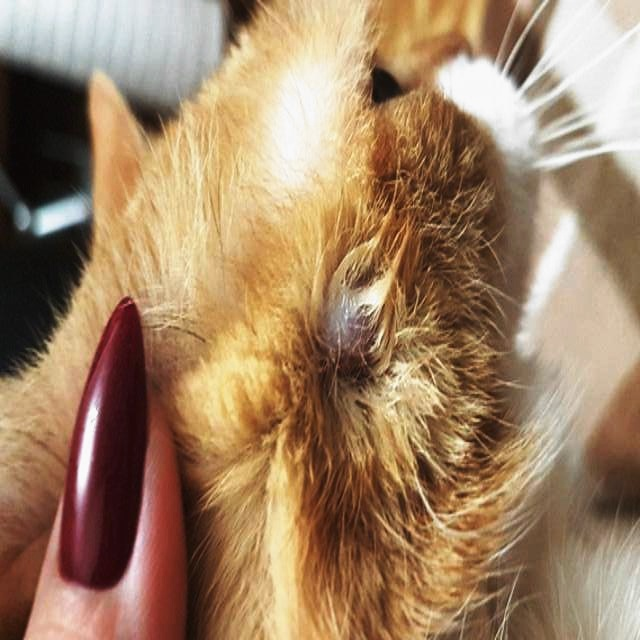lump_and_bump: (325, 278, 380, 346)
